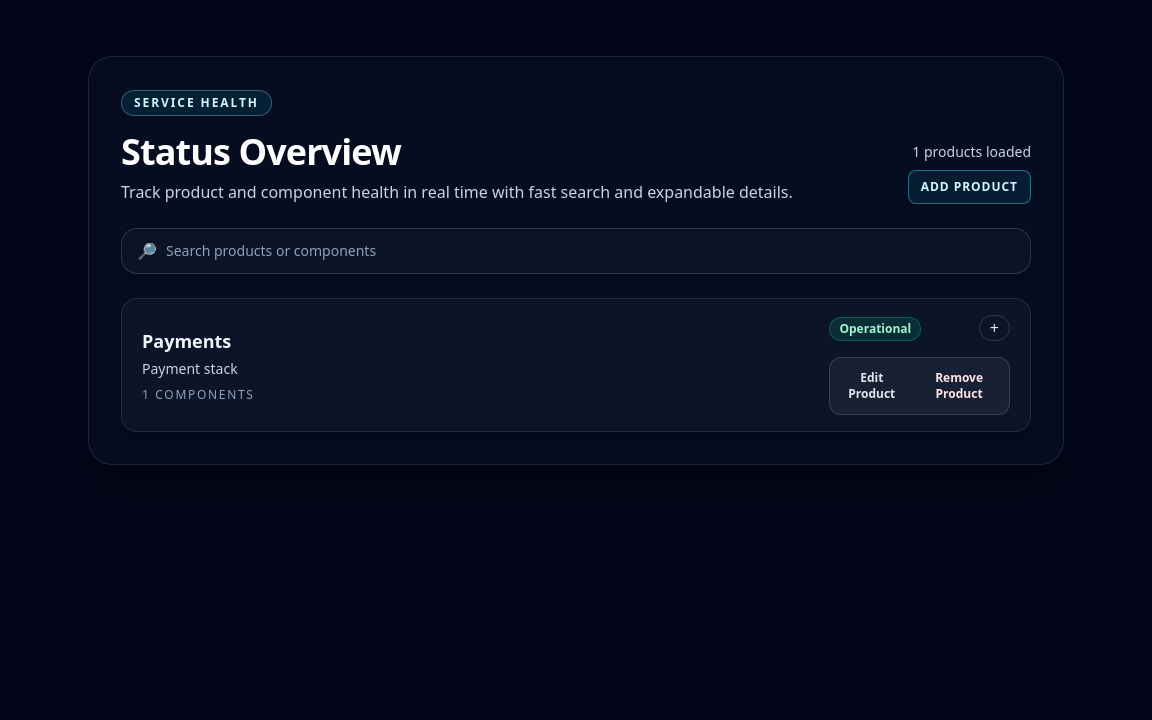
Test case: StatusPageComponent › keeps modal open and shows inline validation error when mutation fails
The width and height of the screenshot is (1152, 720).
Click the button "Add Product": (969, 187) [908,170,1031,204]
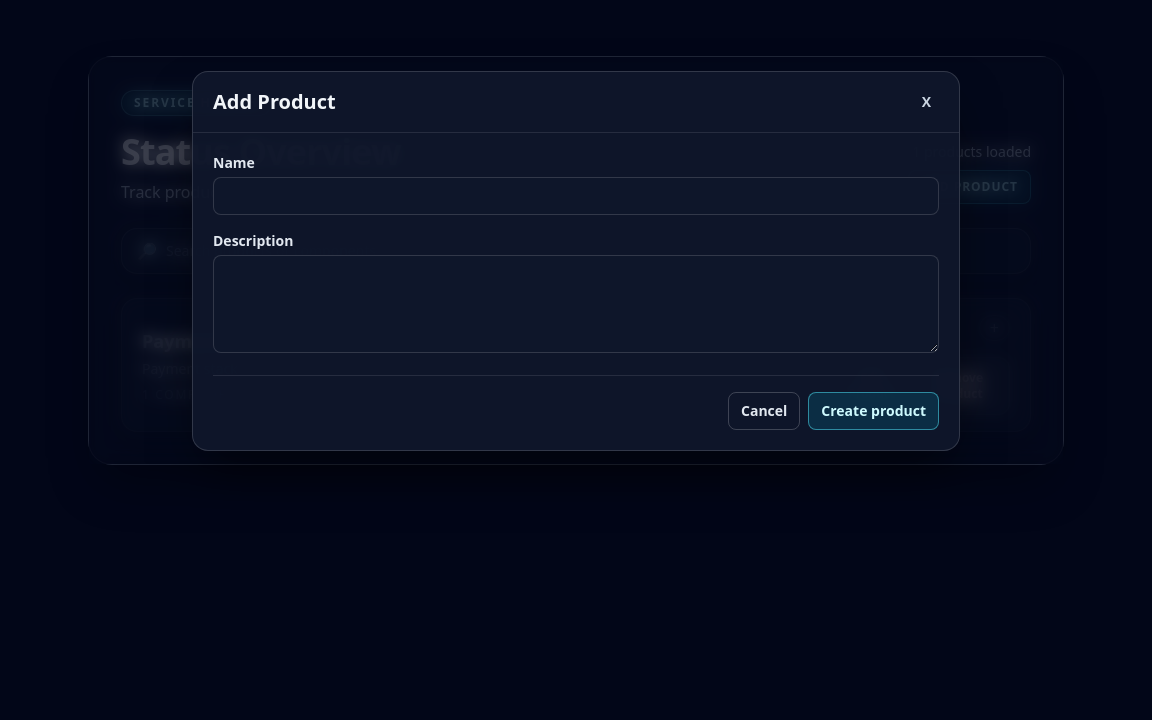
In the field labelled "Name": (576, 196) [213,176,939,214], type "A"
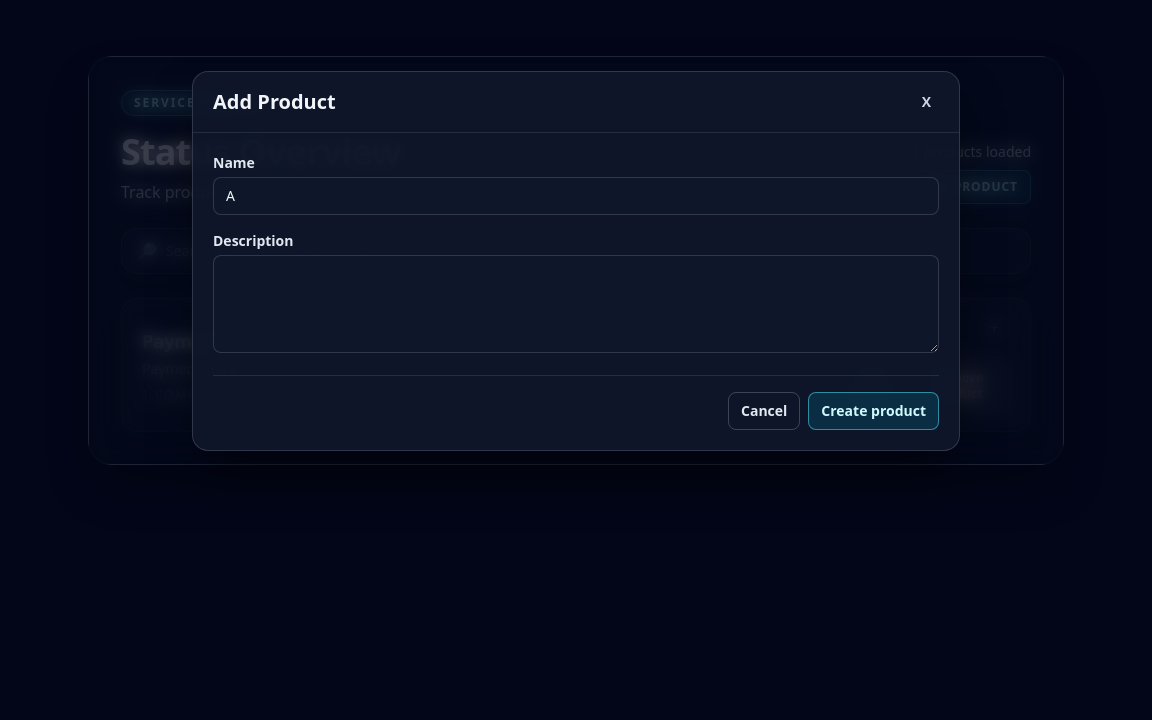
Submit the form, box [213,152,939,430]
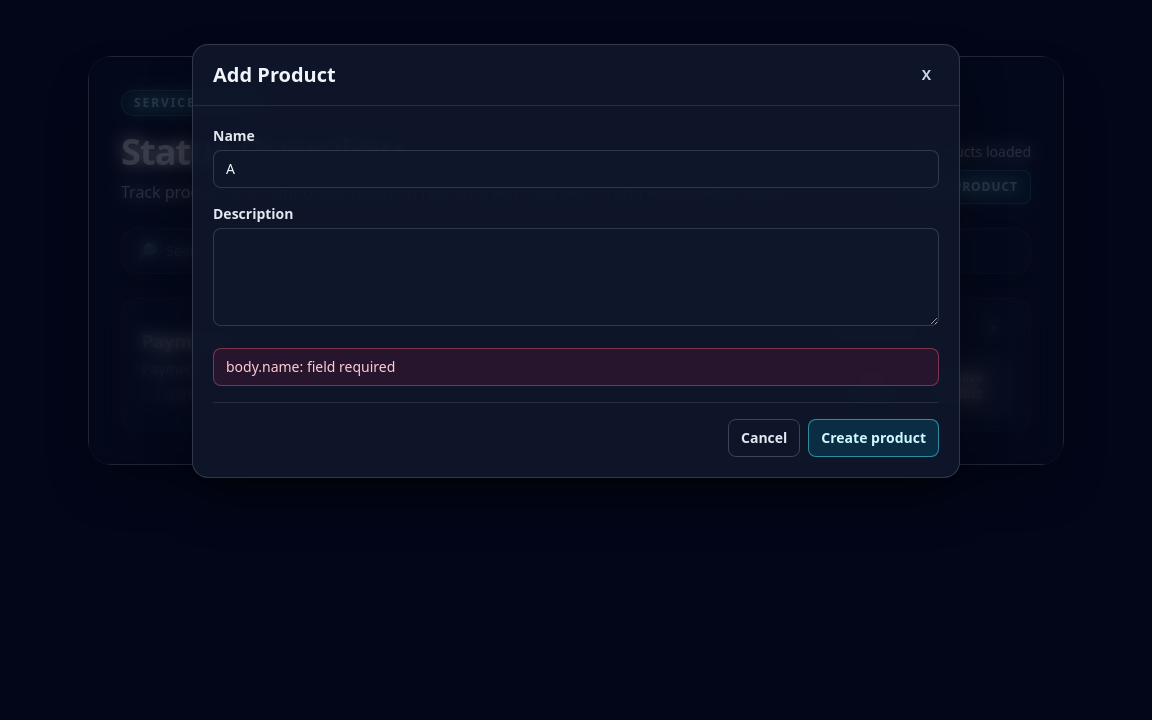
expect the text "body.name: field required" is shown: met, box [213,348,939,386]
